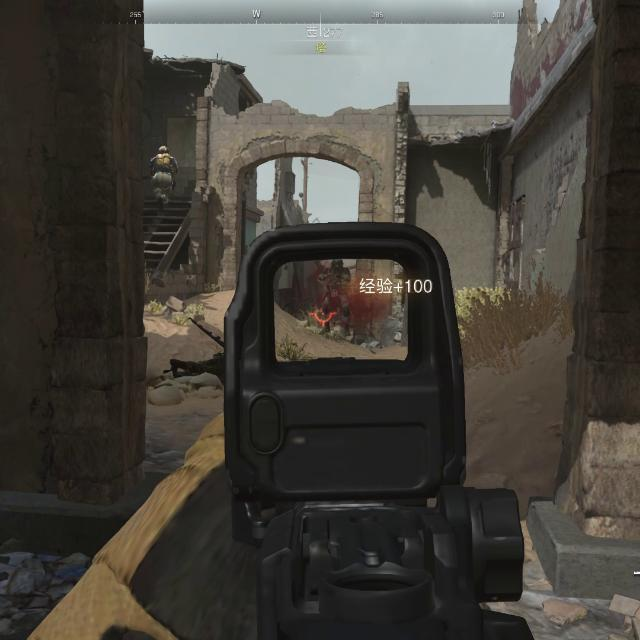MW2_body: (319, 260, 352, 335), (150, 146, 179, 211)
